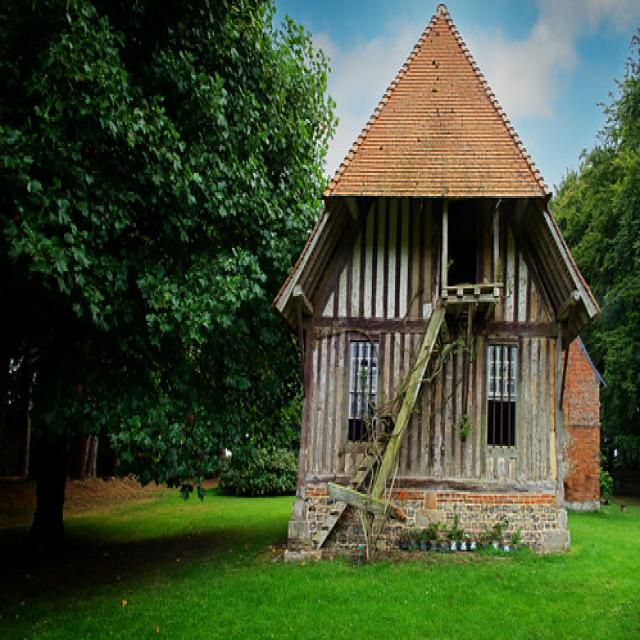Normal_building: (268, 5, 612, 564)
